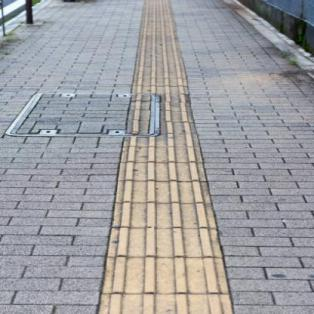Podoctatil: (97, 1, 236, 314)
